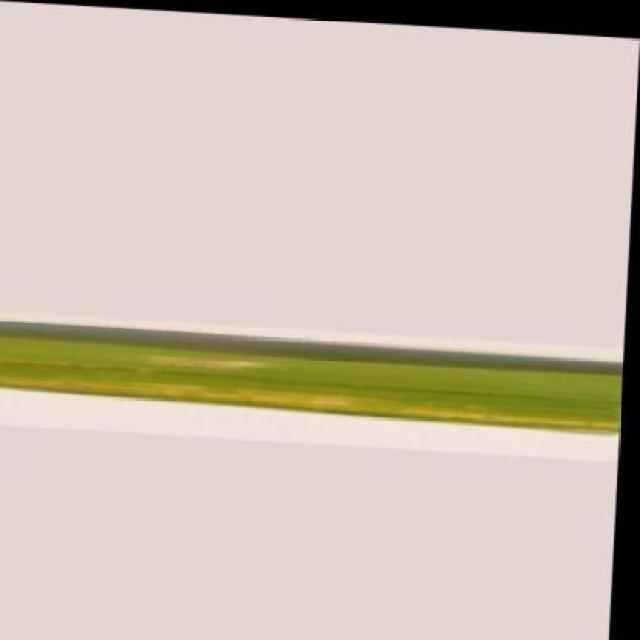Brown_Spot: (0, 324, 628, 431)
